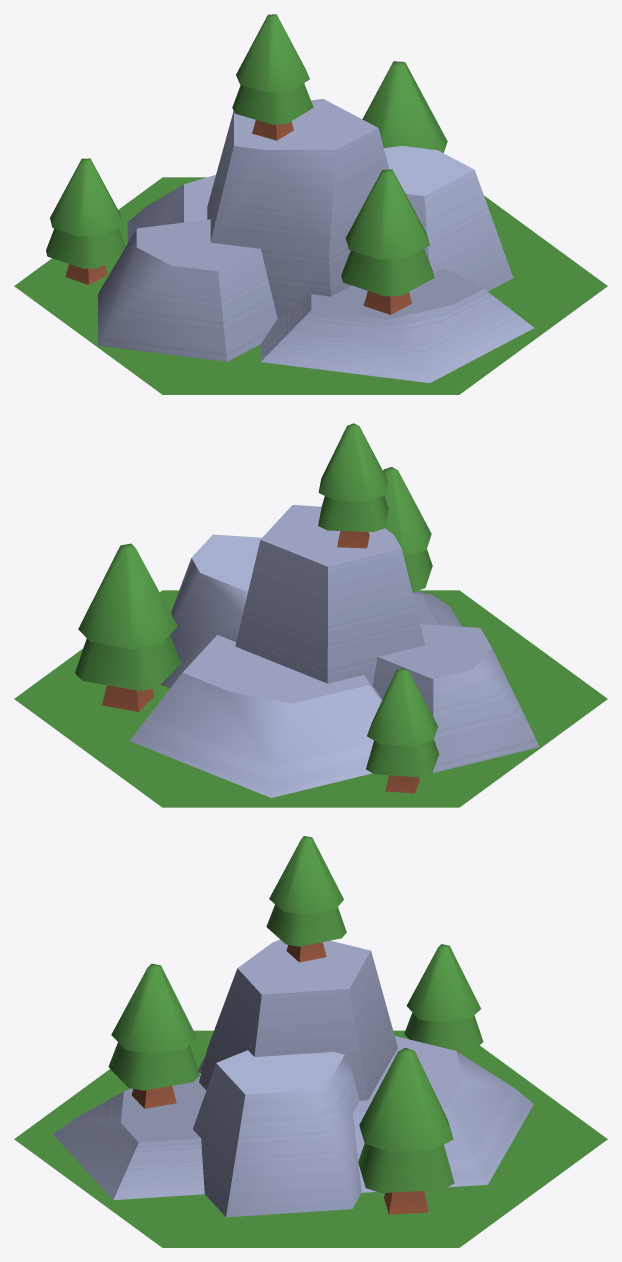
The model's file is forest_hill.glb.
The picture shows the model from 3 angles, top to bottom: view 1: azimuth 30°, elevation 25°; view 2: azimuth 150°, elevation 25°; view 3: azimuth 270°, elevation 25°; orthographic projection.
Visible parts, largest first — view 1: grass-hill; view 2: grass-hill; view 3: grass-hill.
Boxes of the visible parts, x1=… form: grass-hill: x1=14, y1=14, x2=607, y2=394; grass-hill: x1=14, y1=423, x2=607, y2=807; grass-hill: x1=14, y1=836, x2=607, y2=1247.
Bounding box in the file's own units: 1 × 0.6032 × 1.15.
1 material, 1 textured.
